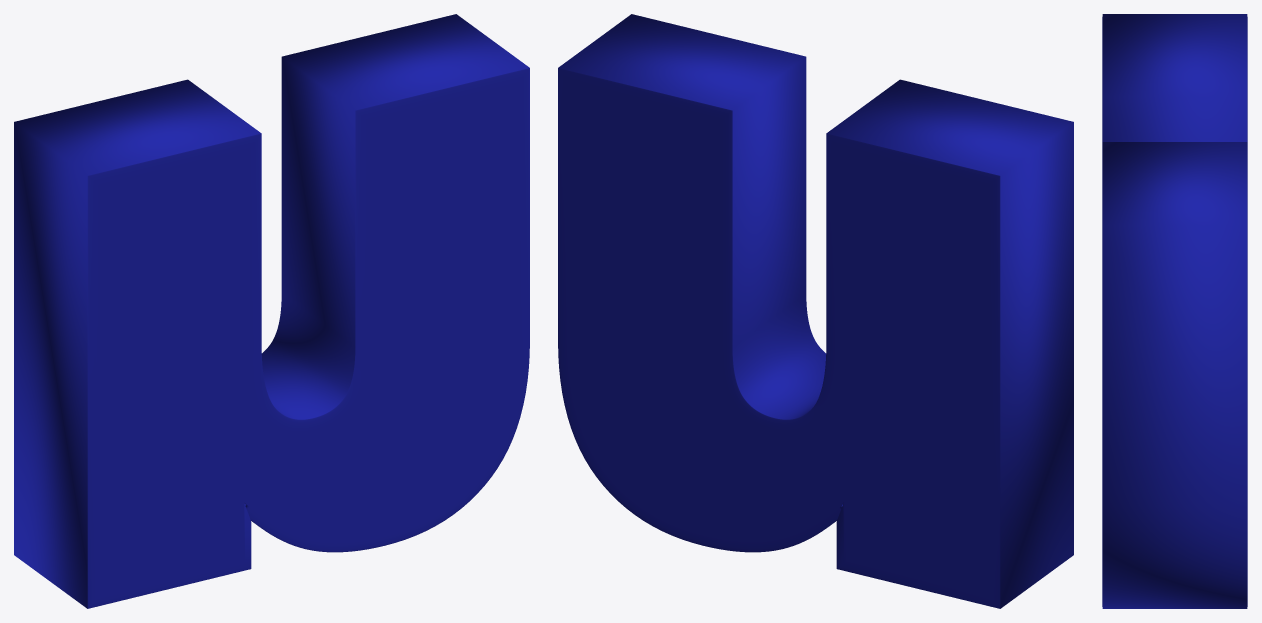
File: vocalu2.fbx
3 renders of one model, left to right at view 1: azimuth 30°, elevation 25°; view 2: azimuth 150°, elevation 25°; view 3: azimuth 270°, elevation 25°, orthographic.
Visible parts, largest first — view 1: Text; view 2: Text; view 3: Text.
Part boxes in pixels (x1=…): Text: x1=14, y1=14, x2=529, y2=608; Text: x1=558, y1=14, x2=1073, y2=608; Text: x1=1102, y1=14, x2=1247, y2=608.
Bounding box in the file's own units: 0.4093 × 0.3912 × 0.1189.
